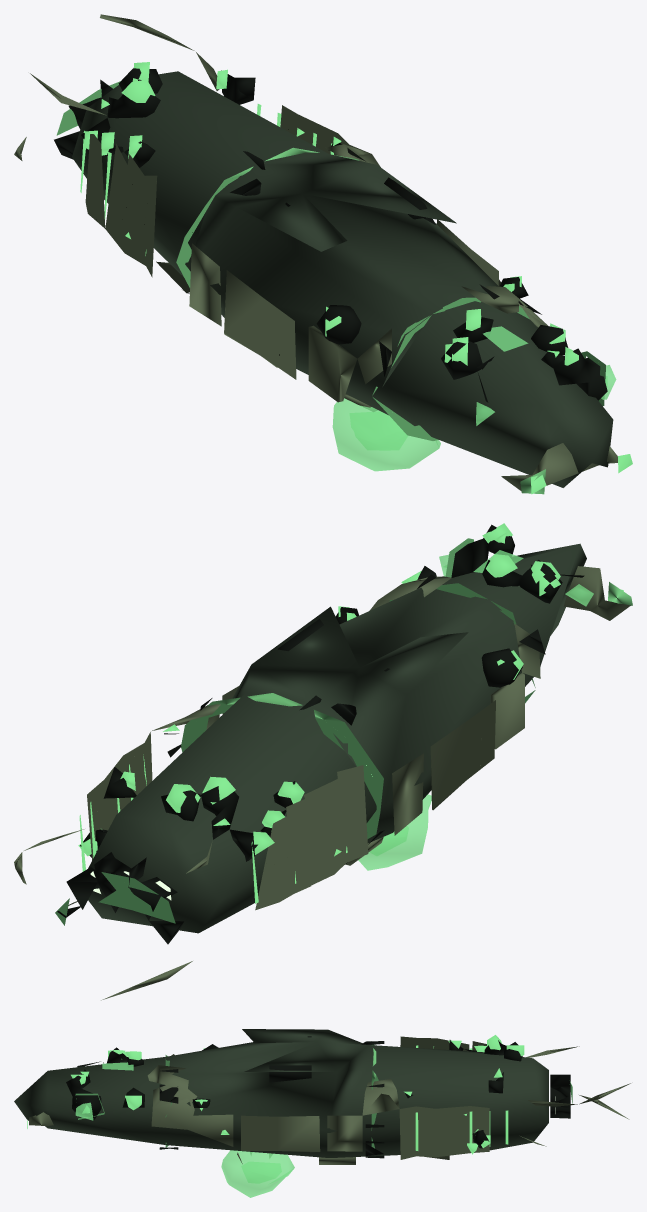
File: zrost-szczepieni-hawk-83-lod2.glb
The picture shows the model from 3 angles, top to bottom: view 1: azimuth 30°, elevation 25°; view 2: azimuth 150°, elevation 25°; view 3: azimuth 270°, elevation 25°; orthographic projection. The views are drawn at different scales.
Bounding box in the file's own units: 17.94 × 19.23 × 74.93.
